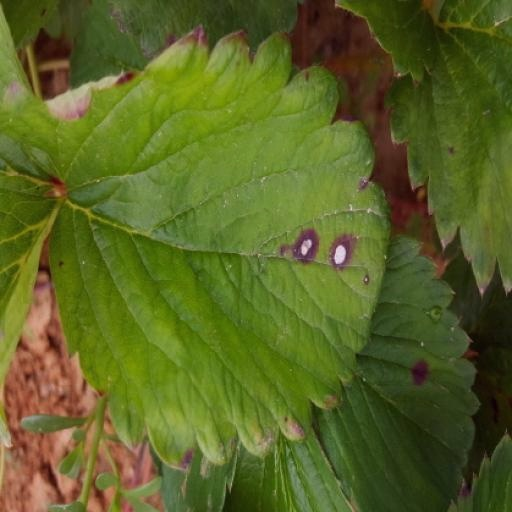Leaf Spot: (44, 24, 391, 472), (311, 233, 482, 511), (381, 0, 511, 301), (0, 70, 143, 177), (447, 431, 511, 511), (0, 0, 66, 54)
